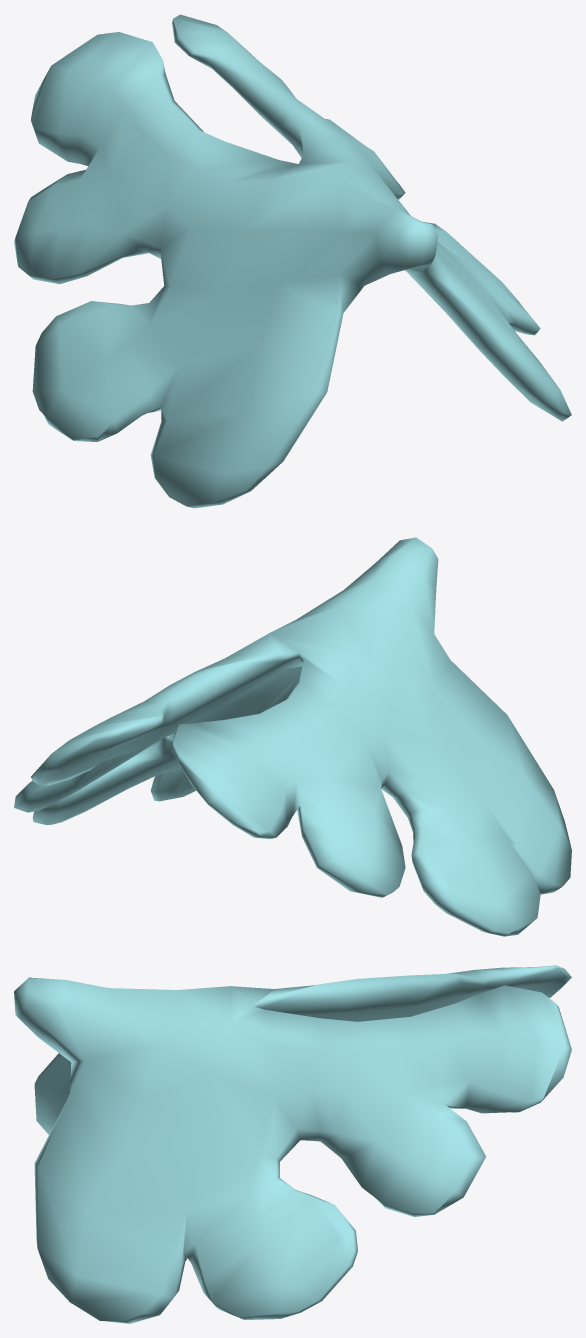
File: Nylon_Exported_TFan.fbx
3 renders of one model, top to bottom at view 1: azimuth 30°, elevation 25°; view 2: azimuth 150°, elevation 25°; view 3: azimuth 270°, elevation 25°, orthographic. The views are drawn at different scales.
Visible parts, largest first — view 1: Fan_low; view 2: Fan_low; view 3: Fan_low.
Part boxes in pixels (<box>): Fan_low: <box>14,14,571,508</box>; Fan_low: <box>14,537,571,936</box>; Fan_low: <box>14,965,571,1323</box>.
Bounding box in the file's own units: 0.4429 × 0.2249 × 0.4125.
